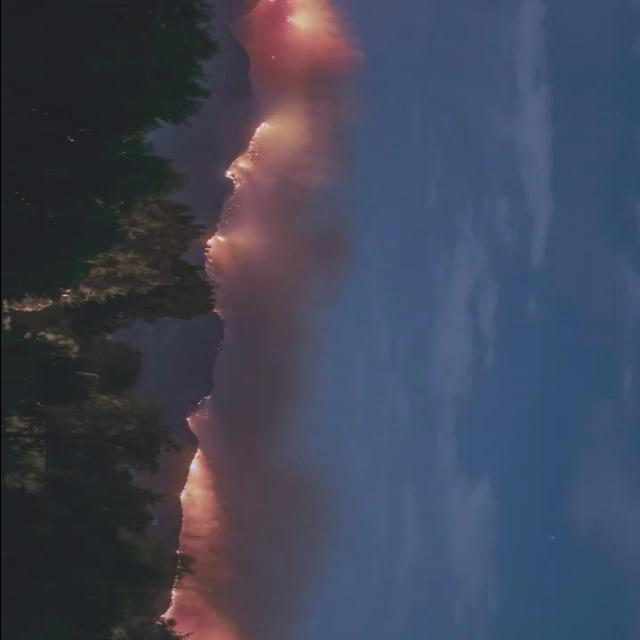Fire: (230, 124, 278, 195), (178, 449, 212, 510), (282, 7, 342, 31), (157, 583, 187, 623), (200, 234, 233, 263), (183, 416, 192, 426)
